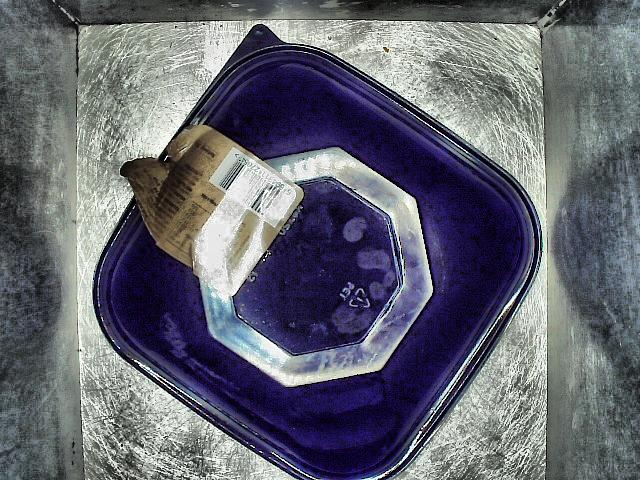Plastic: (35, 13, 640, 480)
